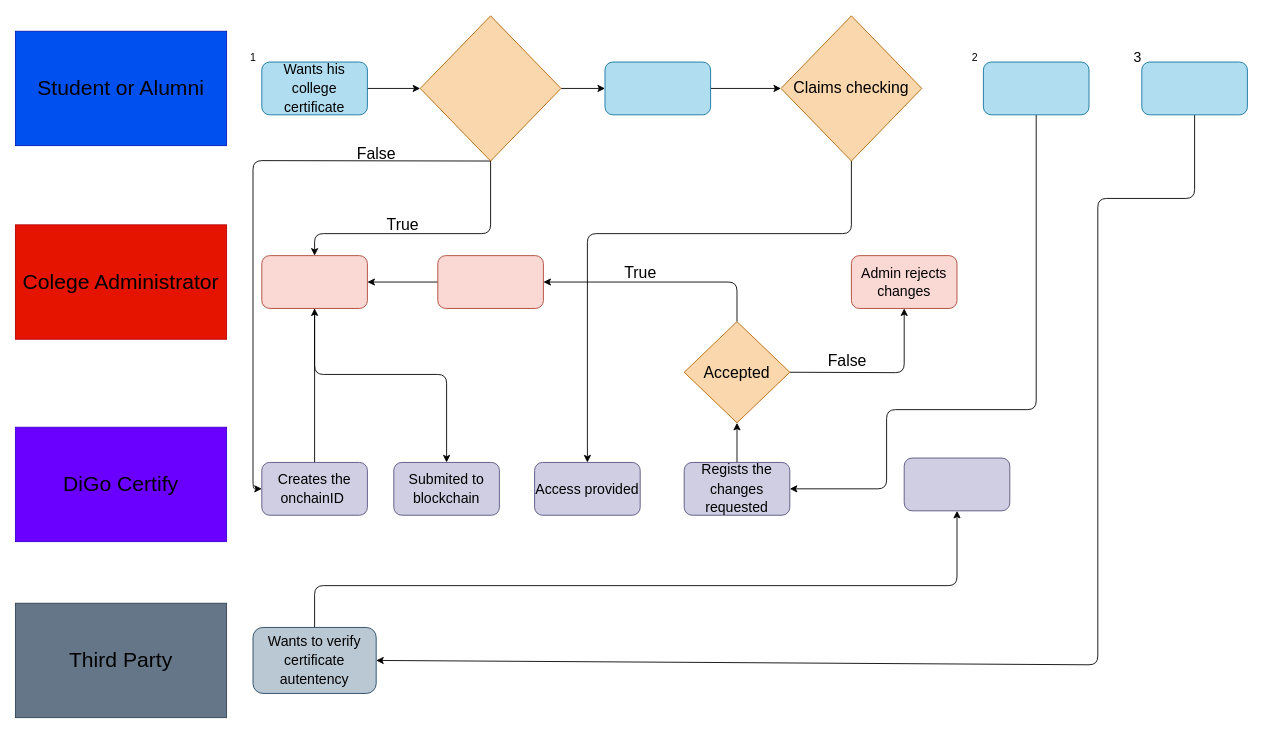
The diagram is 1263 pixels wide and 733 high, and some of its shapes have lost their labels. Here are the shapes that lost their labels. From the top down, the centre of each, then its label:
At (490,88): "has onchainID".
At (657,88): "Gets certificate".
At (1036,88): "Requests changes to his certificate".
At (1194,88): "Provides certificate to external entity".
At (314,281): "Emits the certificate".
At (490,281): "Admin accepts changes".
At (956,484): "Autenticy verified".
